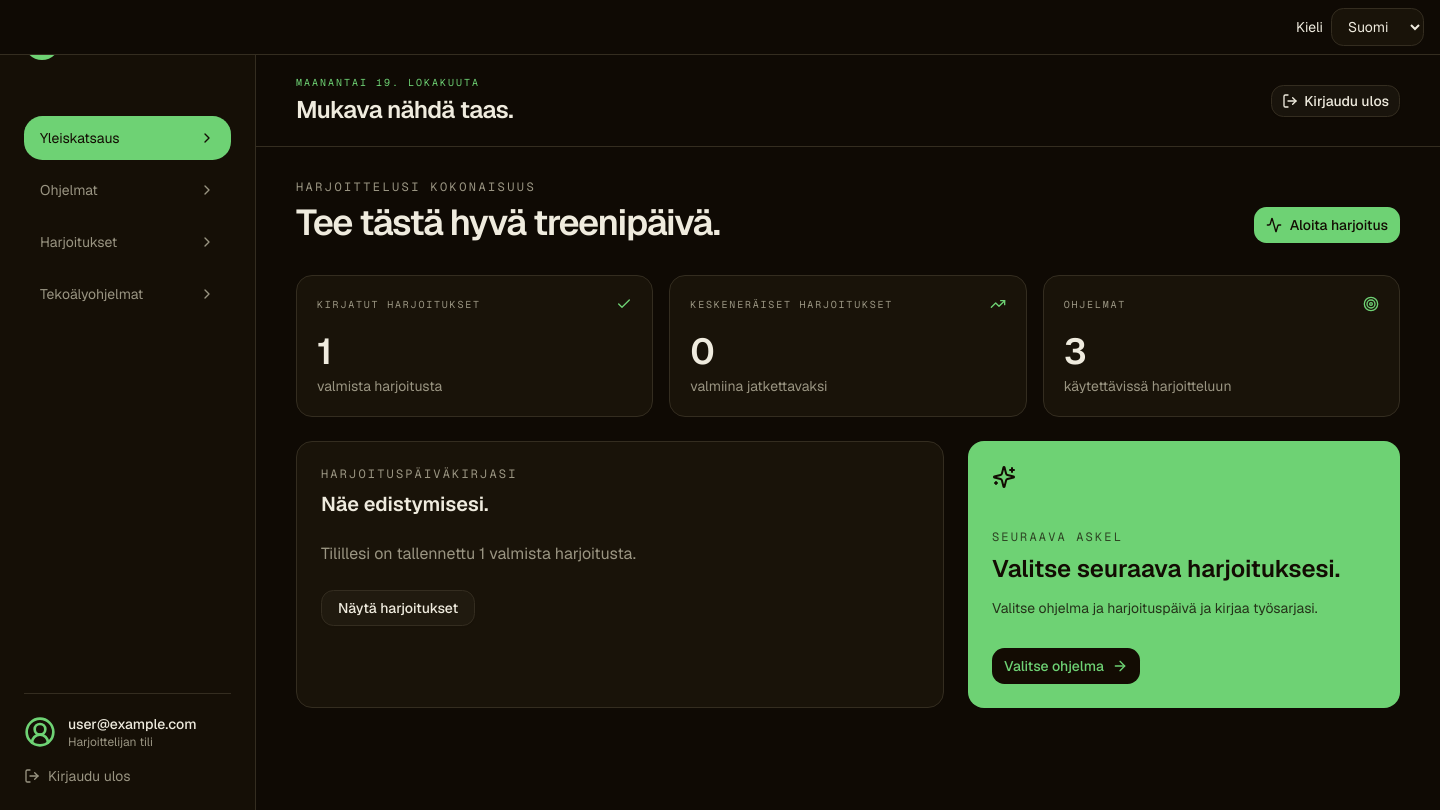
Test case: shows the real dashboard in Finnish and preserves custom program names
Click the button "Ohjelmat" at (128, 190), box x1=24 y1=168 x2=231 y2=212
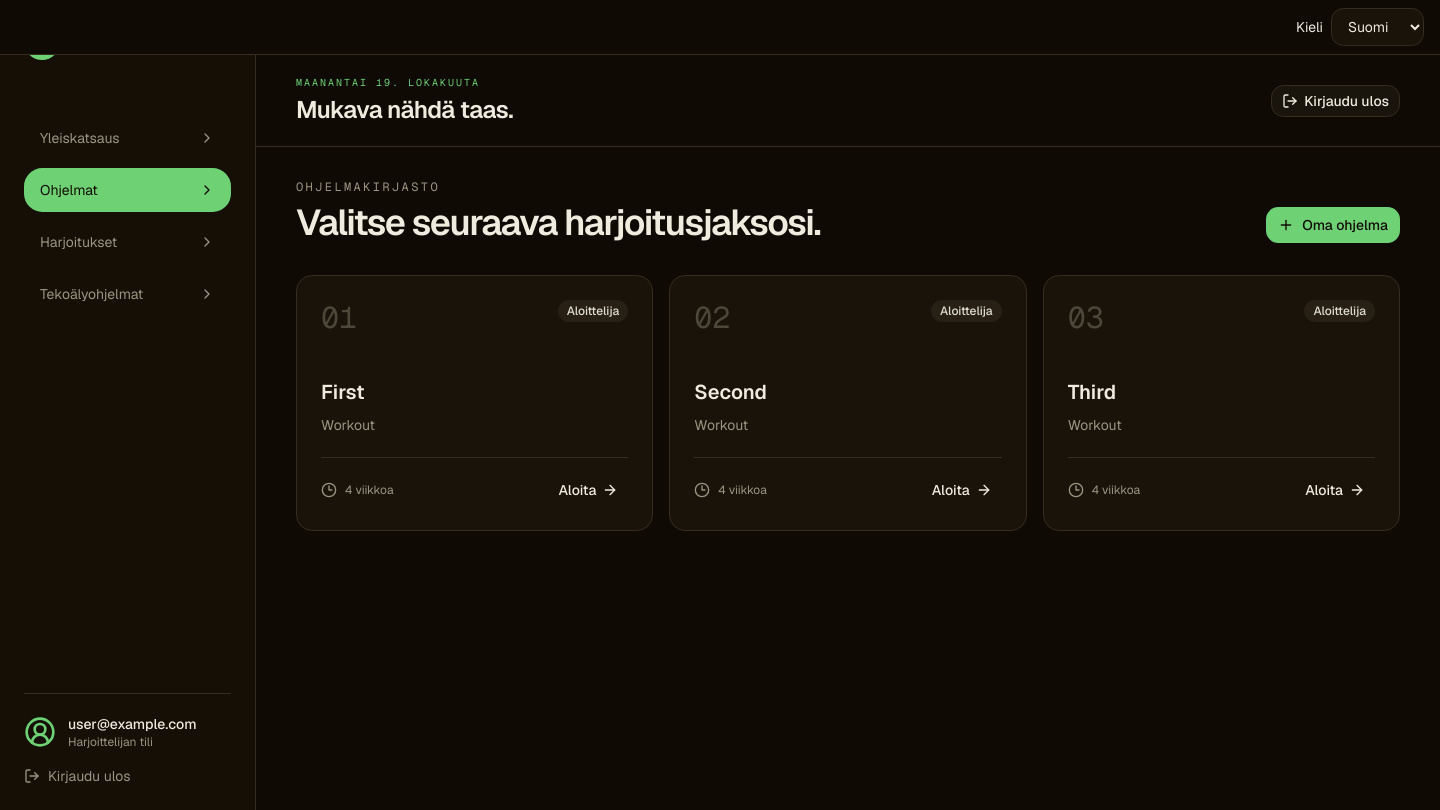
Check: the text "Valitse seuraava harjoitusjaksosi." is shown, box x1=296 y1=203 x2=820 y2=243
Check: the text "Aloittelija" is shown, box x1=558 y1=300 x2=628 y2=322
Check: the text "Third" is shown, box x1=1068 y1=379 x2=1116 y2=405
